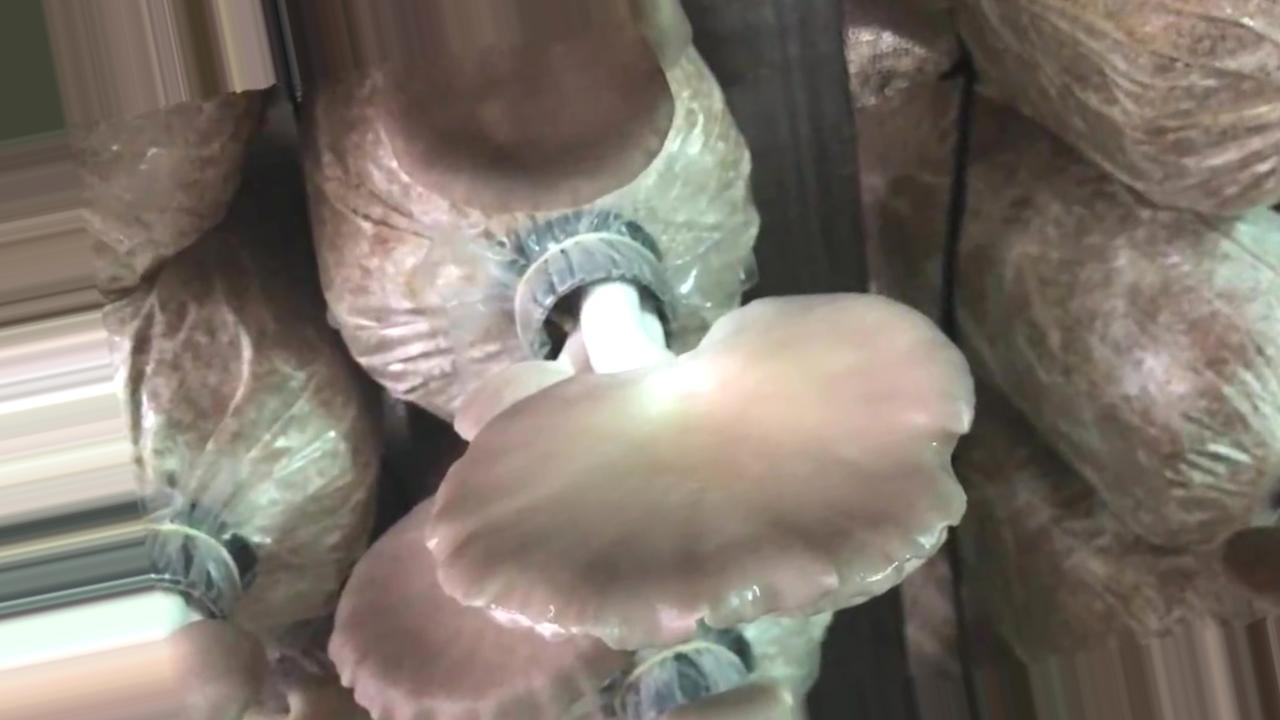nam: (425, 224, 978, 648), (330, 500, 633, 720), (386, 60, 675, 224)
